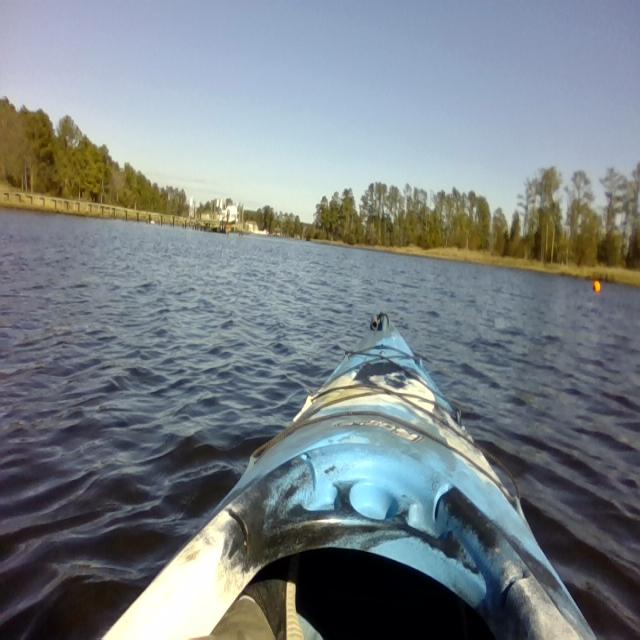Buoy: (589, 274, 603, 300)
